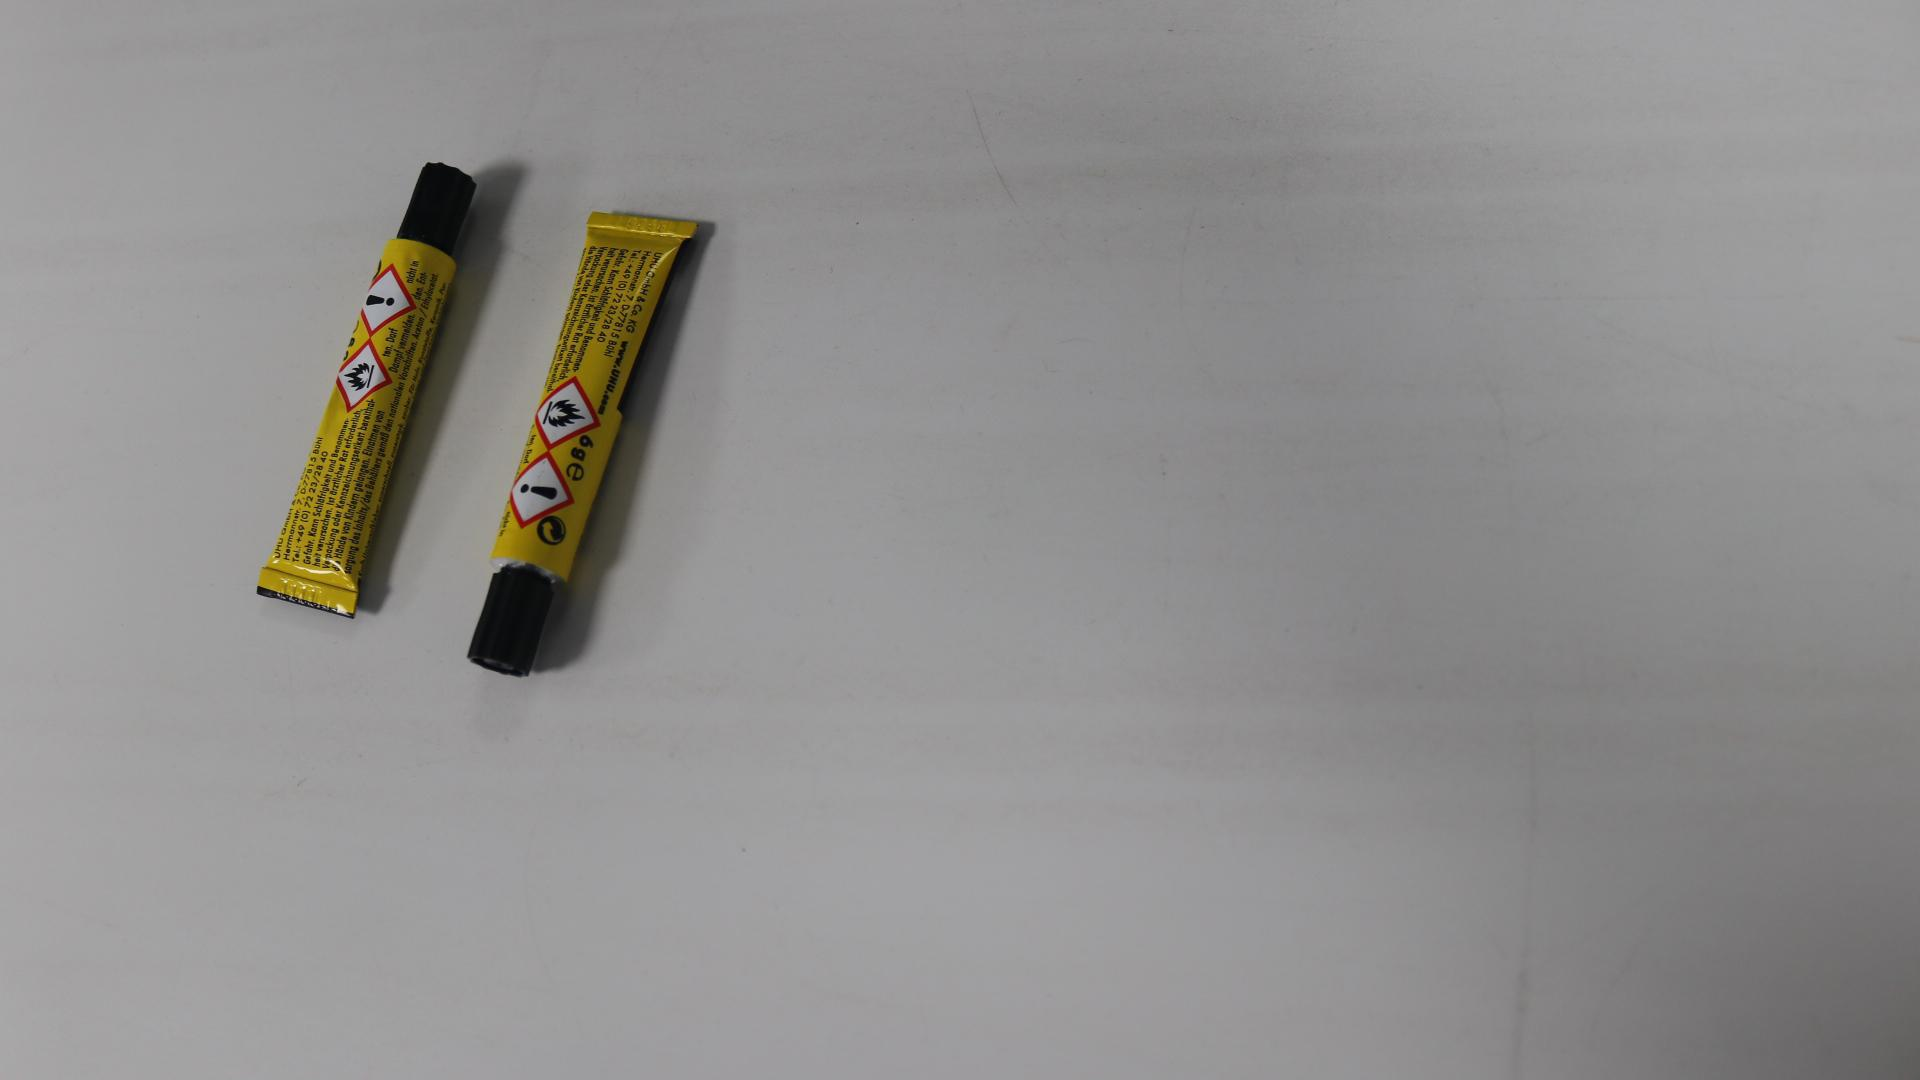Head: (426, 201, 439, 215), (503, 613, 514, 624)
Tail: (297, 584, 315, 604), (632, 218, 645, 228)
Tube: (466, 213, 701, 680), (257, 164, 478, 617)
